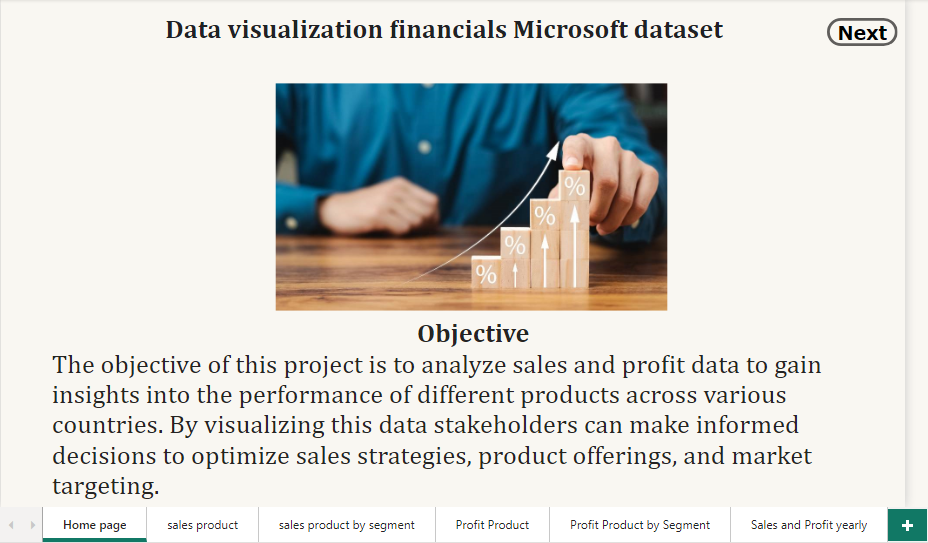

The dashboard page shown, as its layout file describes it:
{"tool":"powerbi","page":{"name":"Page 1","canvas":[1280,720],"ordinal":0},"visuals":[{"type":"actionButton","box":[1170.5,27.4,100.2,39.8],"z":0},{"type":"image","box":[266.2,119.4,675.1,393.8],"z":1000},{"type":"textbox","box":[177,15.1,901.5,104.3],"z":2000}]}

Visuals, with their boxes on the page's 1280x720 design canvas (x1, y1, x2, y2). These are canvas units, not pixel positions in the 928x543 screenshot, which may show the page scaled, cropped or inside an application window:
actionButton: (left=1170, top=27, right=1271, bottom=67)
image: (left=266, top=119, right=941, bottom=513)
textbox: (left=177, top=15, right=1078, bottom=119)
